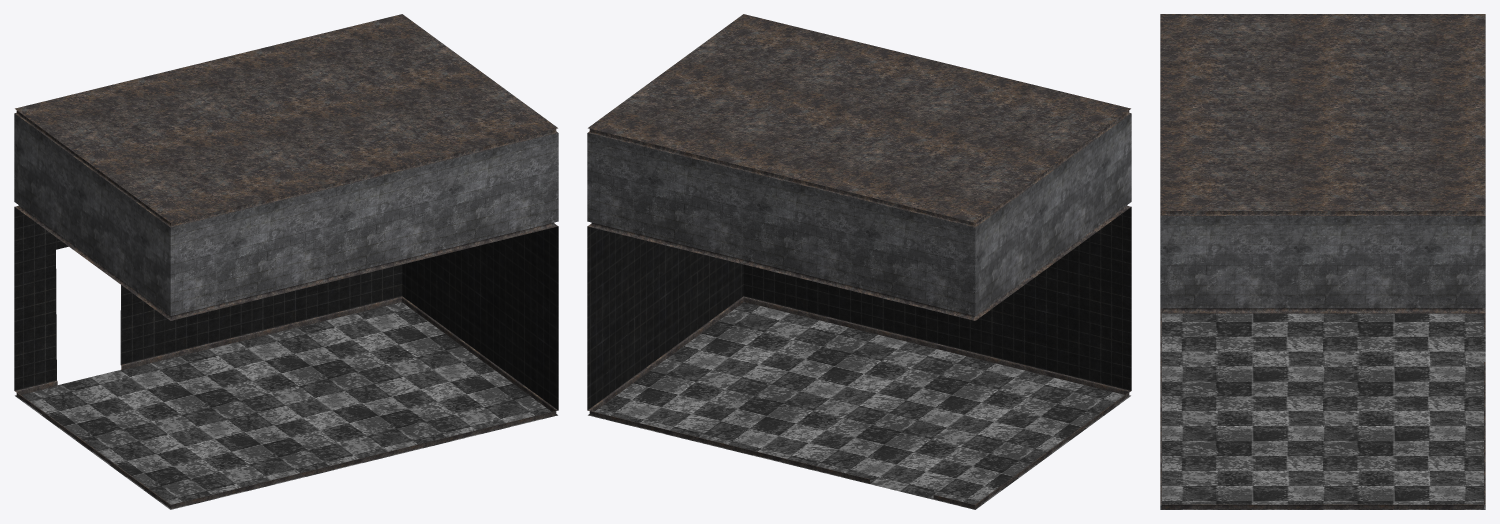
File: Bathroom.FBX
3 renders of one model, left to right at view 1: azimuth 30°, elevation 25°; view 2: azimuth 150°, elevation 25°; view 3: azimuth 270°, elevation 25°, orthographic. The views are drawn at different scales.
Parts seen in each view (by area): view 1: Bathroom; view 2: Bathroom; view 3: Bathroom.
Boxes of the visible parts, <box> form: Bathroom: <box>14,14,558,509</box>; Bathroom: <box>587,14,1131,509</box>; Bathroom: <box>1160,14,1485,509</box>.
Bounding box in the file's own units: 195 × 138 × 136.
